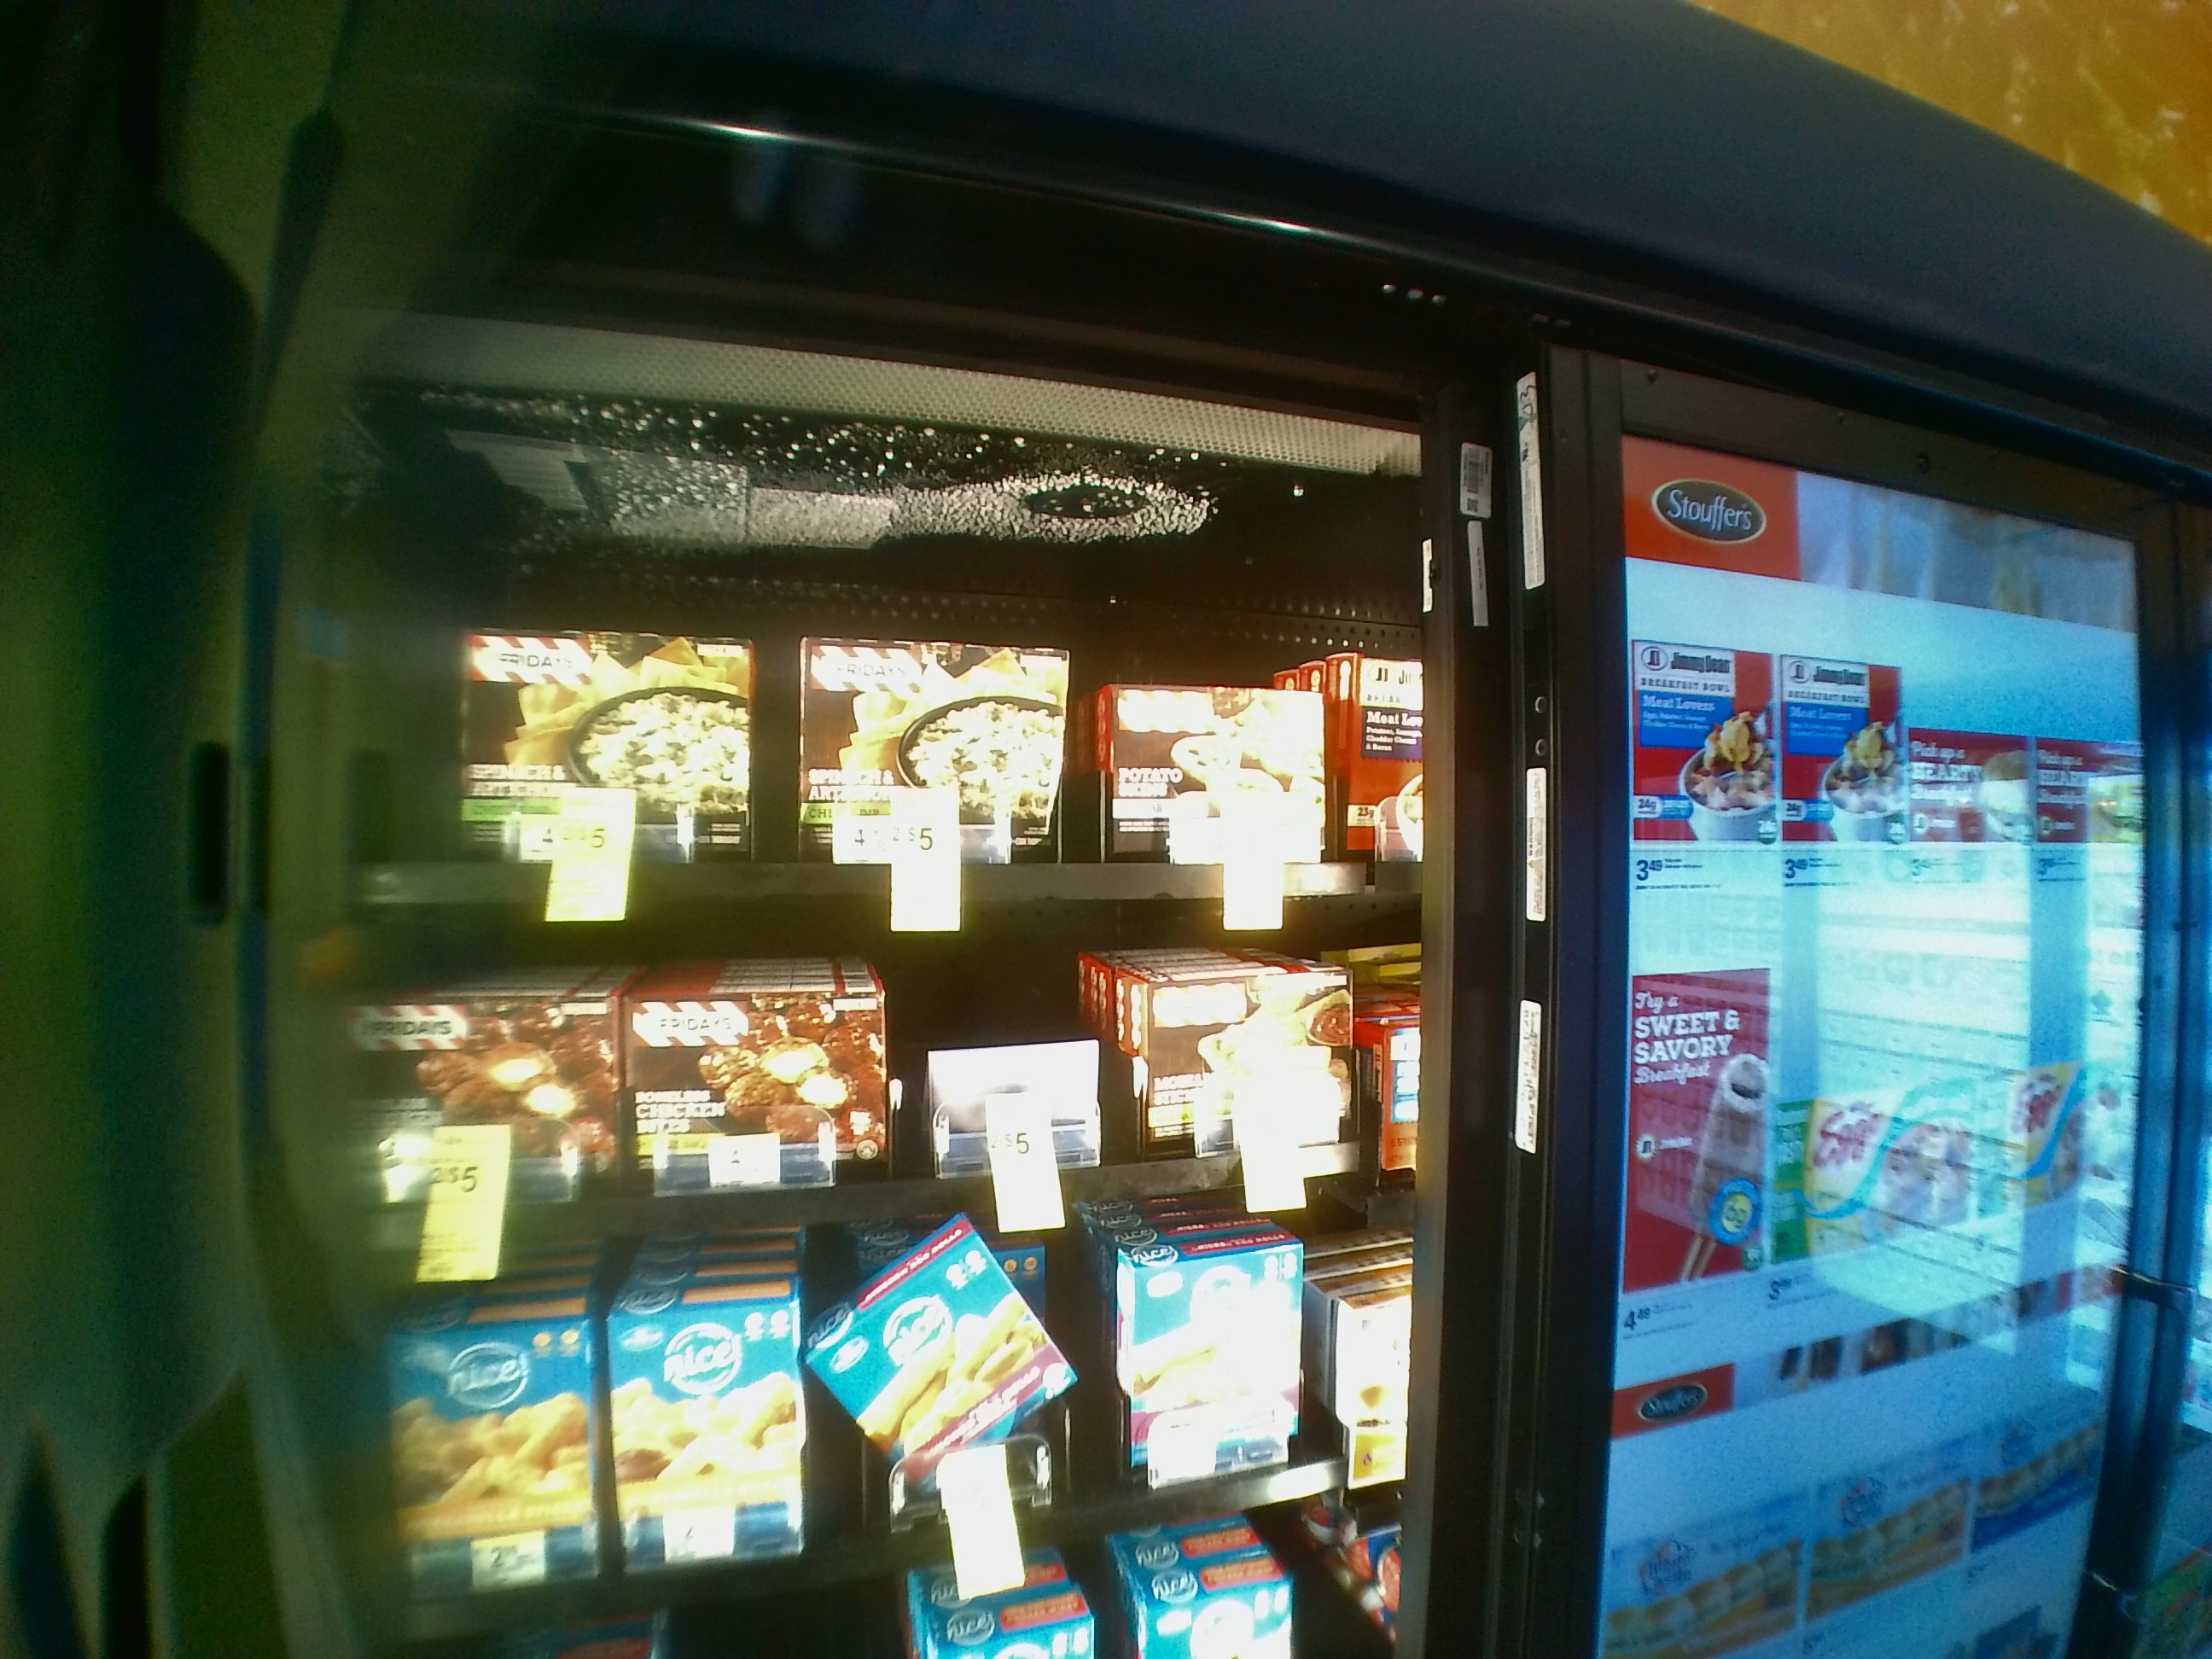shelf: (315, 467, 1407, 910), (314, 922, 1416, 1246)
